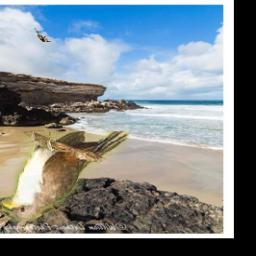Cuckoo: (2, 132, 129, 222), (34, 27, 50, 42)
